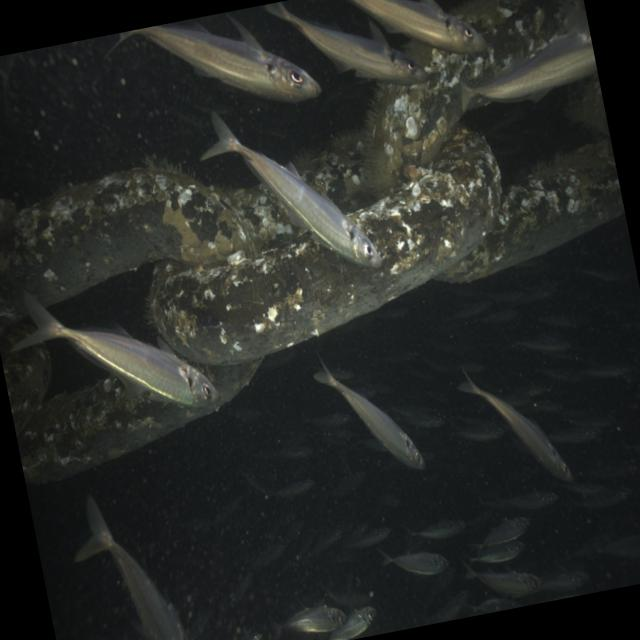ChainLink: (149, 128, 501, 364), (363, 0, 586, 191), (0, 165, 254, 324), (438, 138, 624, 282), (17, 376, 210, 482), (205, 359, 260, 405)
